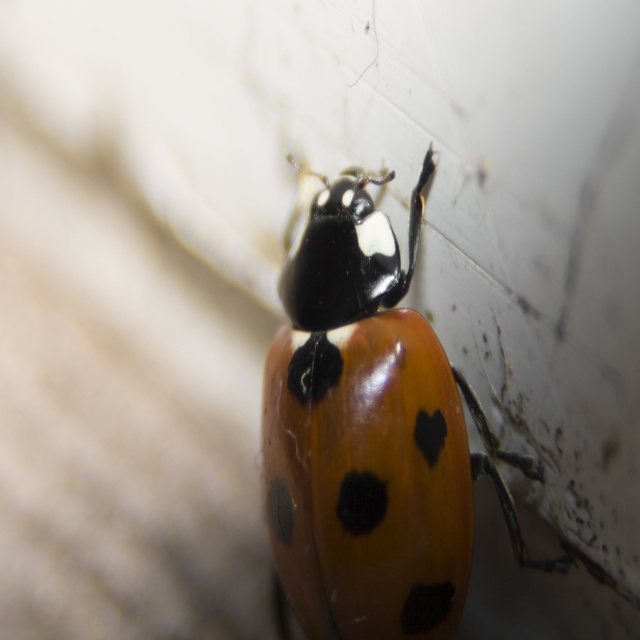Ladybug: (261, 139, 580, 639)
